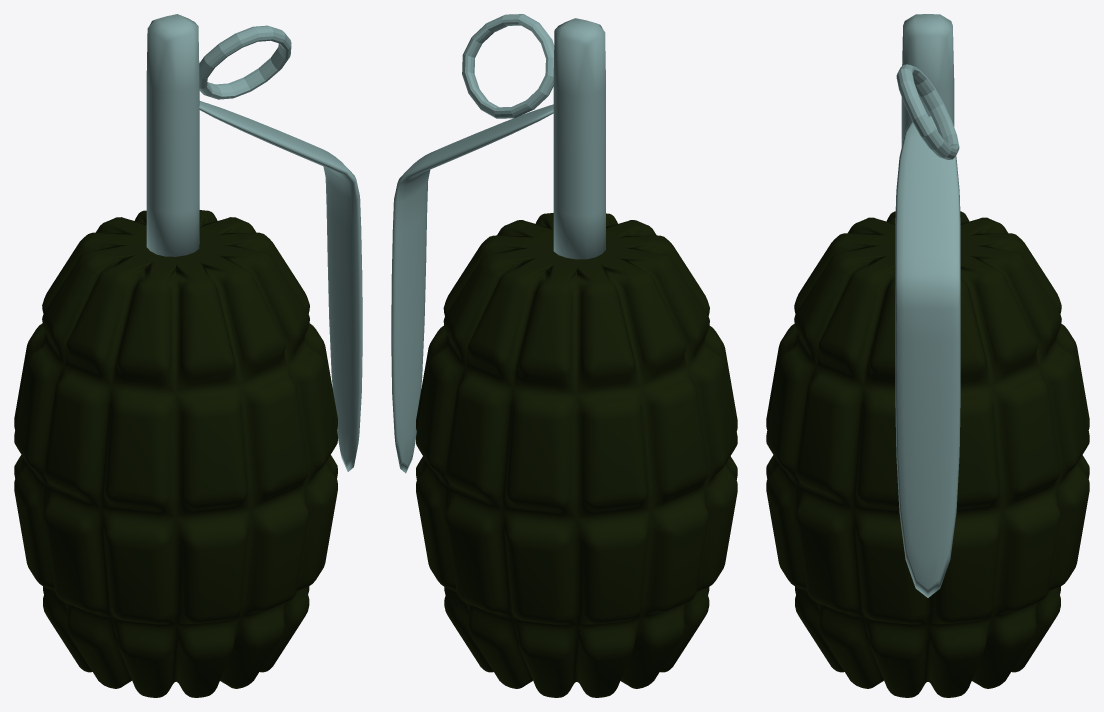
File: grenade.obj
3 views of the same model, side by side, from view 1: azimuth 30°, elevation 25°; view 2: azimuth 150°, elevation 25°; view 3: azimuth 270°, elevation 25° (orthographic).
Parts seen in each view (by area): view 1: Grenade_Cube.1472, Grenade.001_Cube.1473; view 2: Grenade_Cube.1472, Grenade.001_Cube.1473; view 3: Grenade_Cube.1472, Grenade.001_Cube.1473.
Part boxes in pixels (<box>): Grenade_Cube.1472: <box>14,210,337,697</box>; Grenade.001_Cube.1473: <box>146,14,362,471</box>; Grenade_Cube.1472: <box>416,213,737,697</box>; Grenade.001_Cube.1473: <box>391,14,605,473</box>; Grenade_Cube.1472: <box>766,211,1089,697</box>; Grenade.001_Cube.1473: <box>895,14,960,597</box>.
Bounding box in the file's own units: 1.04 × 2.02 × 0.9258.
